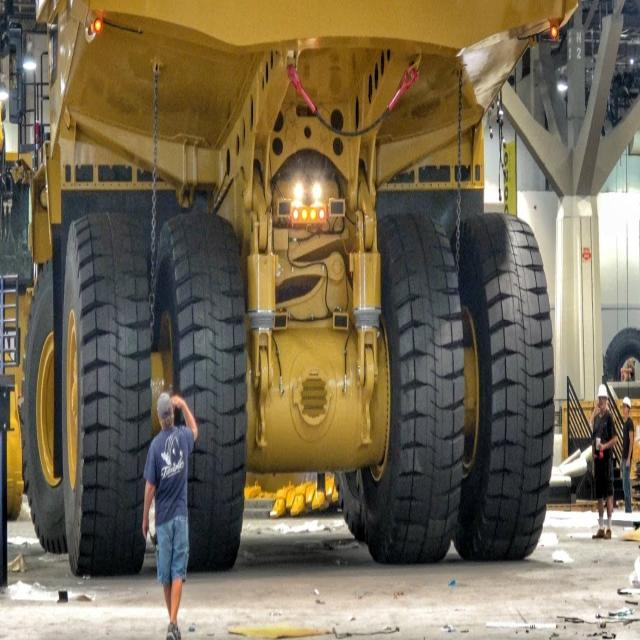dump_truck: (27, 0, 574, 564)
